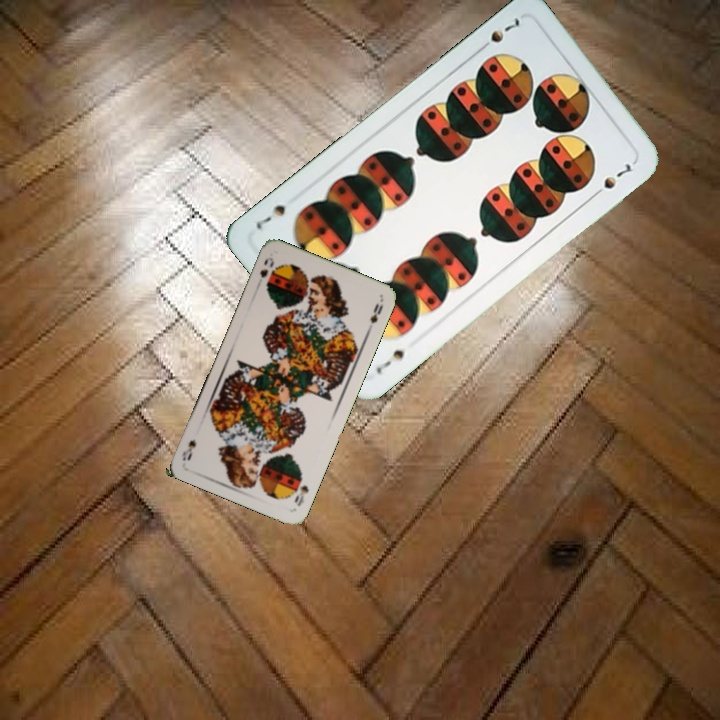S7: (474, 13, 523, 55), (371, 345, 407, 377)
SO: (290, 473, 312, 509), (256, 253, 277, 280)
